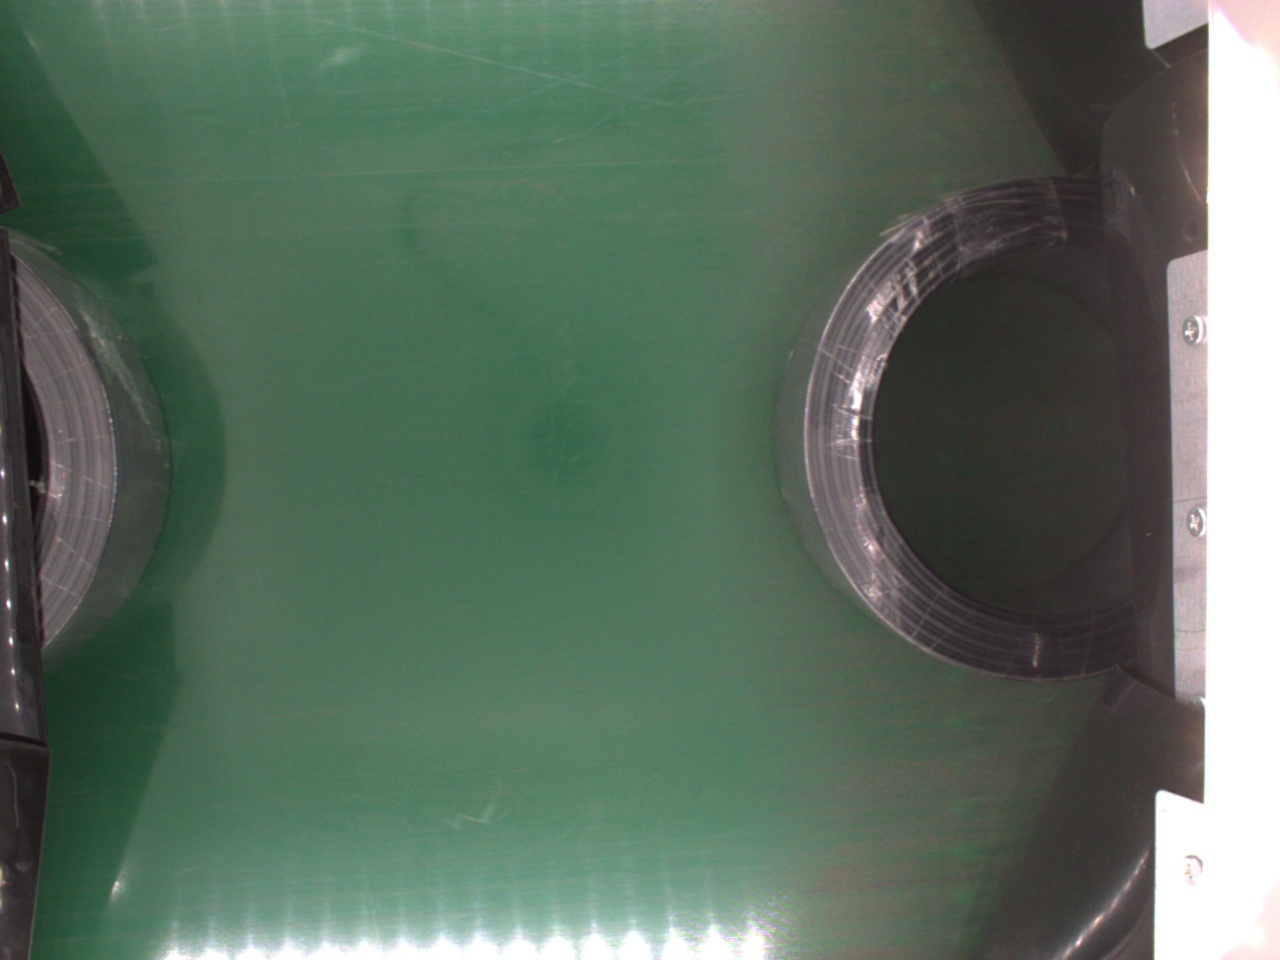black: (771, 172, 1161, 681), (16, 233, 168, 665)
